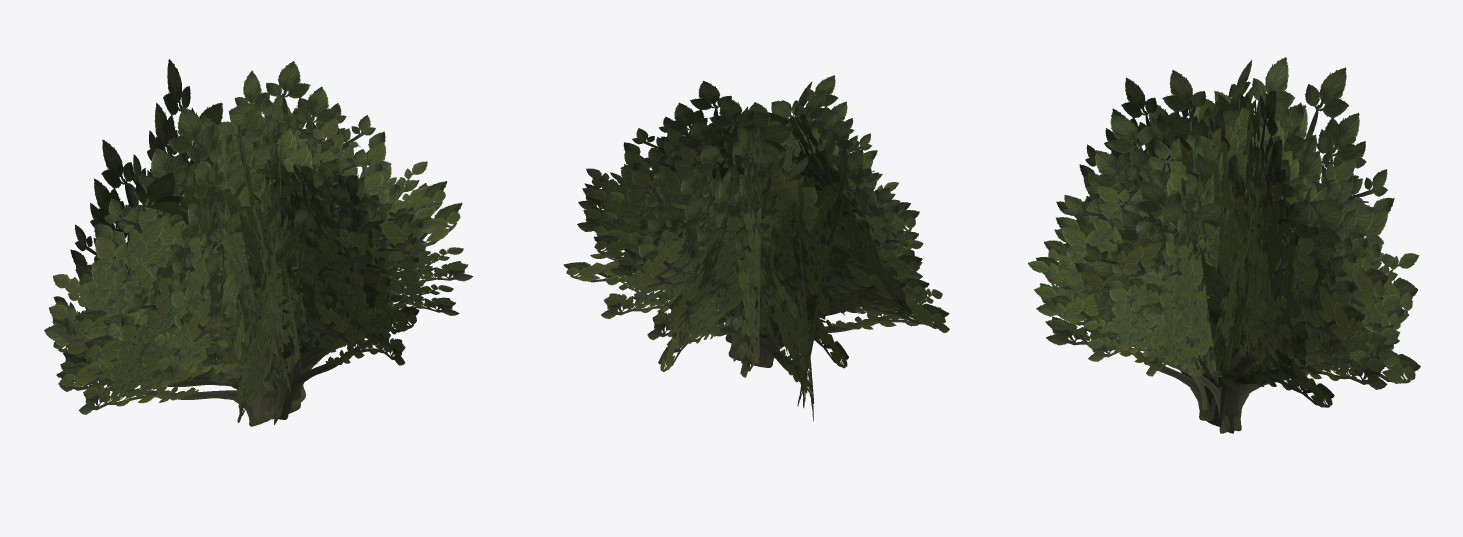
File: shared_bush_01.fbx
The picture shows the model from 3 angles, left to right: view 1: azimuth 30°, elevation 25°; view 2: azimuth 150°, elevation 25°; view 3: azimuth 270°, elevation 25°; orthographic projection. The views are drawn at different scales.
Visible parts, largest first — view 1: shared_bush_01; view 2: shared_bush_01; view 3: shared_bush_01.
Part boxes in pixels (x1=…): shared_bush_01: x1=44, y1=59, x2=472, y2=426; shared_bush_01: x1=563, y1=75, x2=949, y2=421; shared_bush_01: x1=1028, y1=57, x2=1420, y2=433.
Size of the model in its own units: 2.14 by 2.02 by 1.68.
